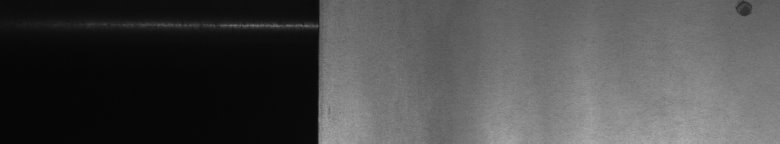fi: (732, 4, 756, 24)
